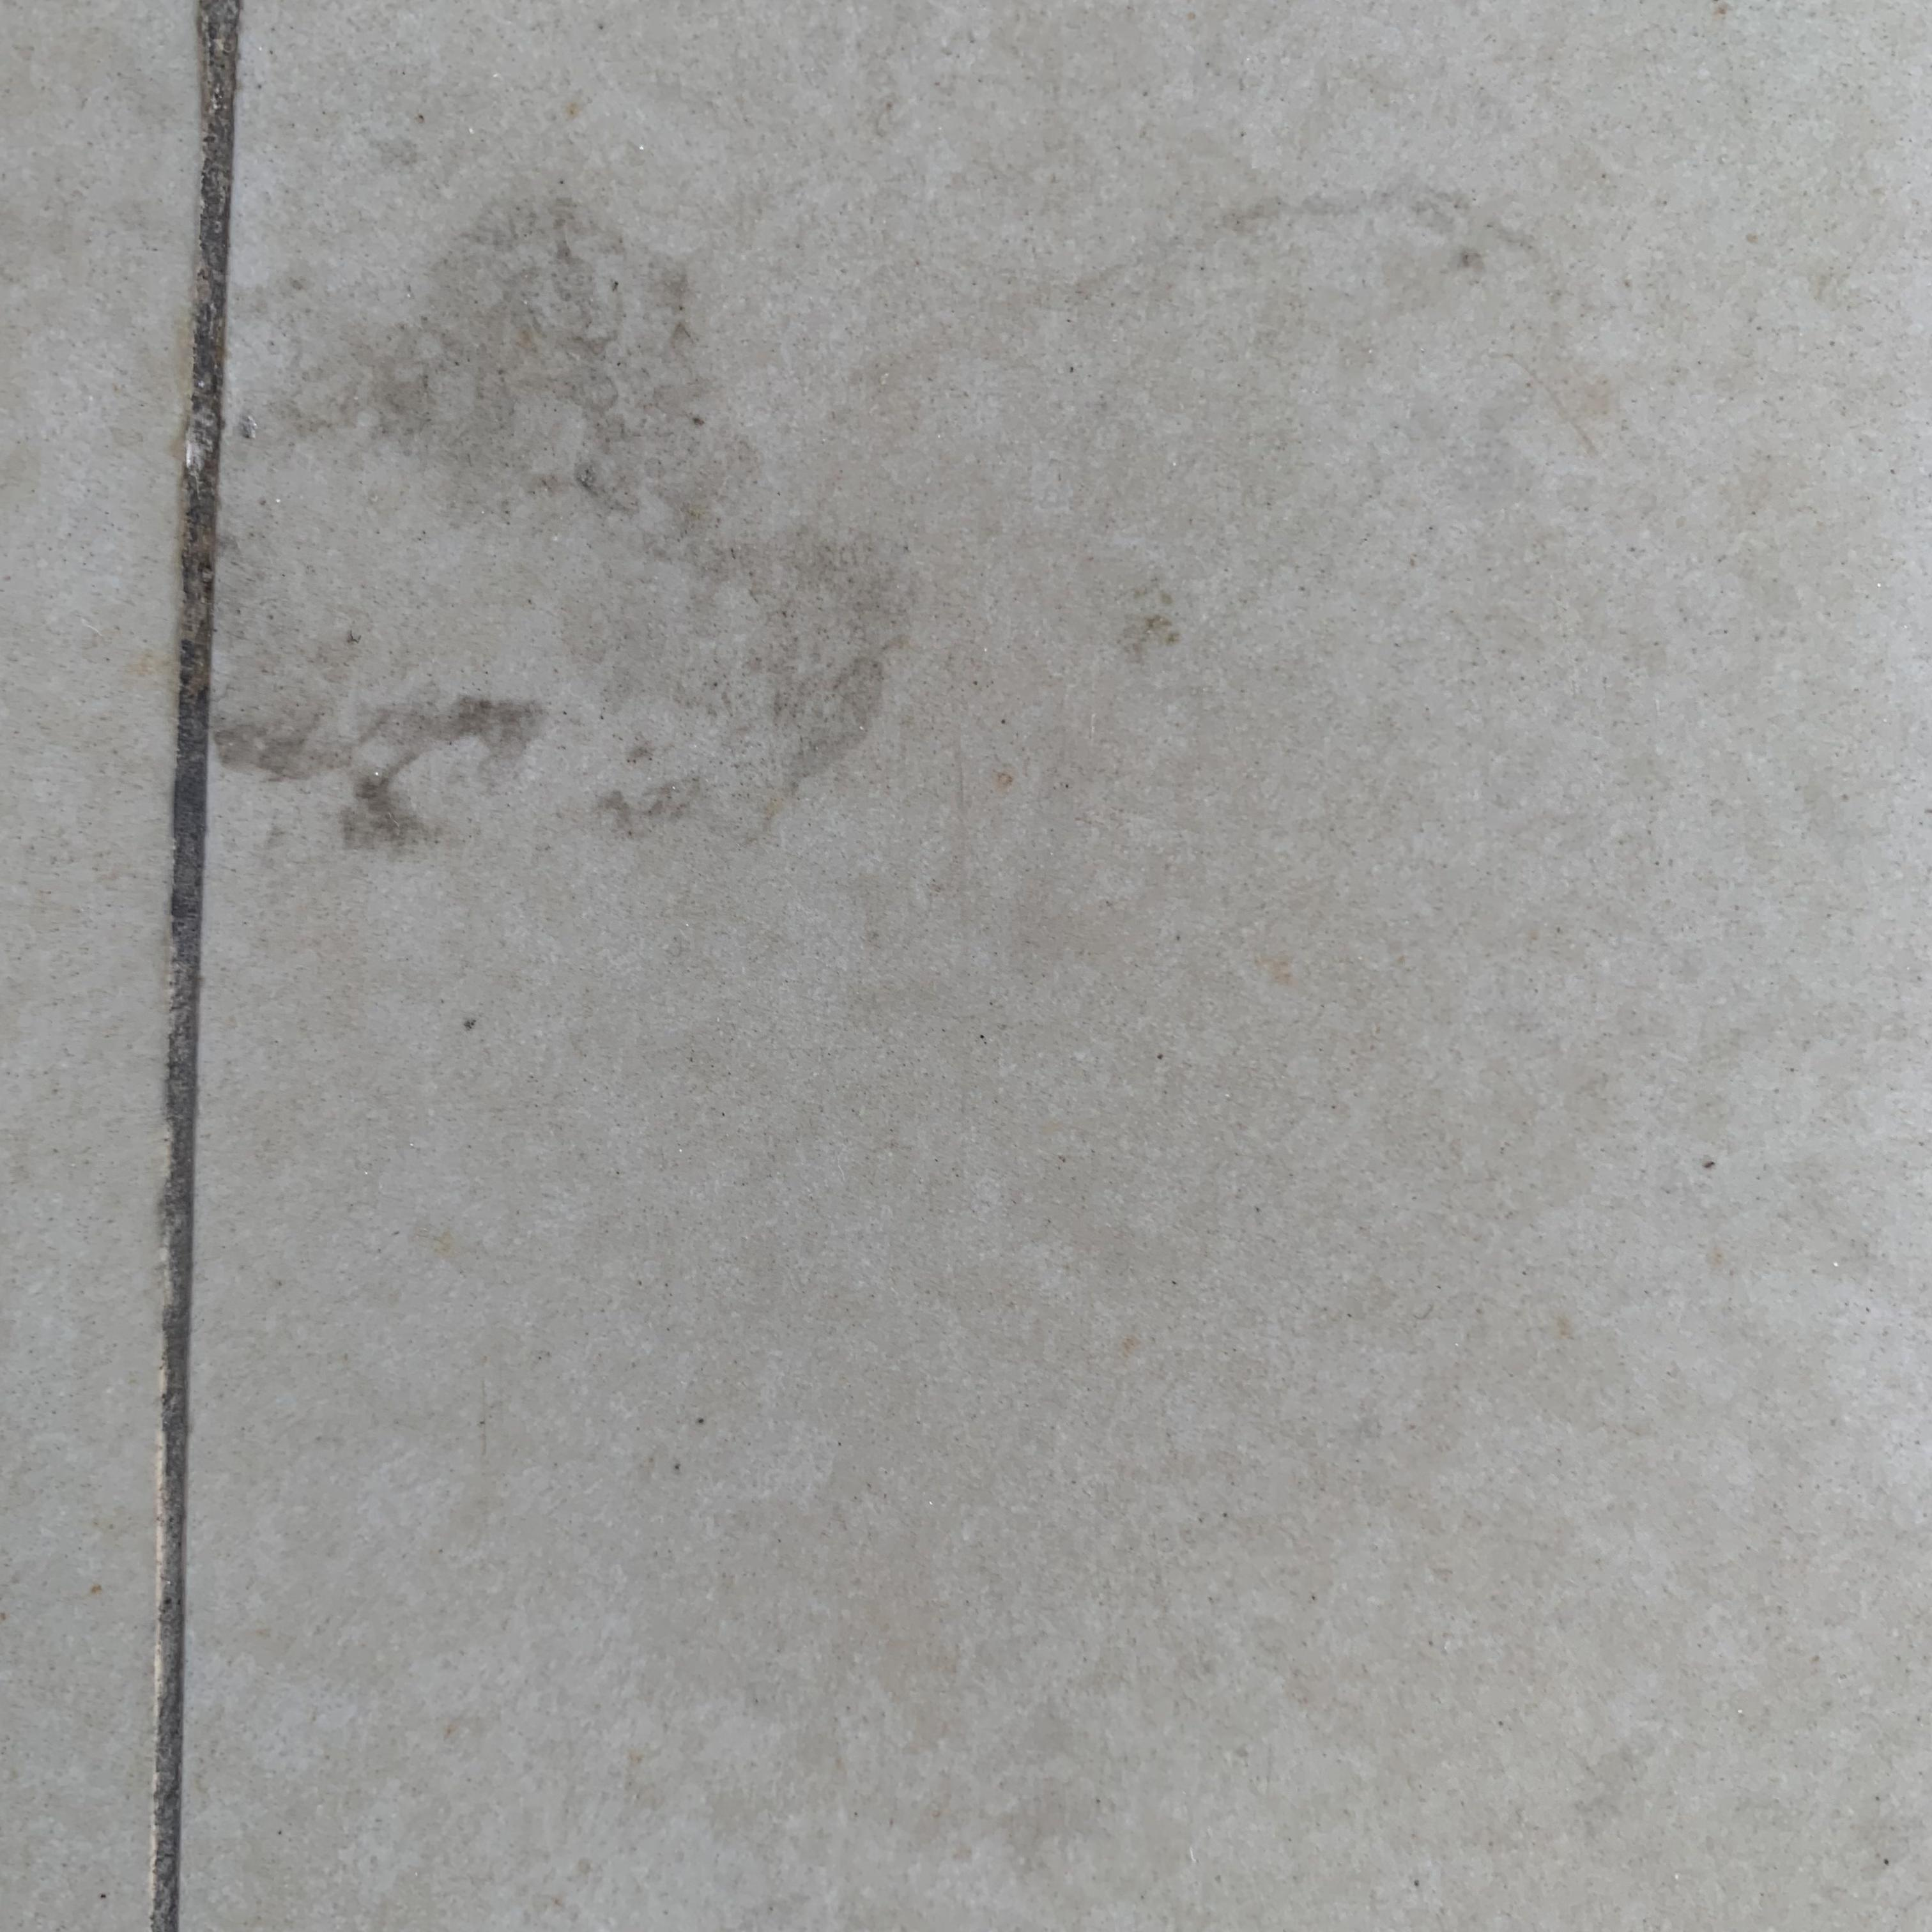grey spot: (209, 198, 918, 851)
